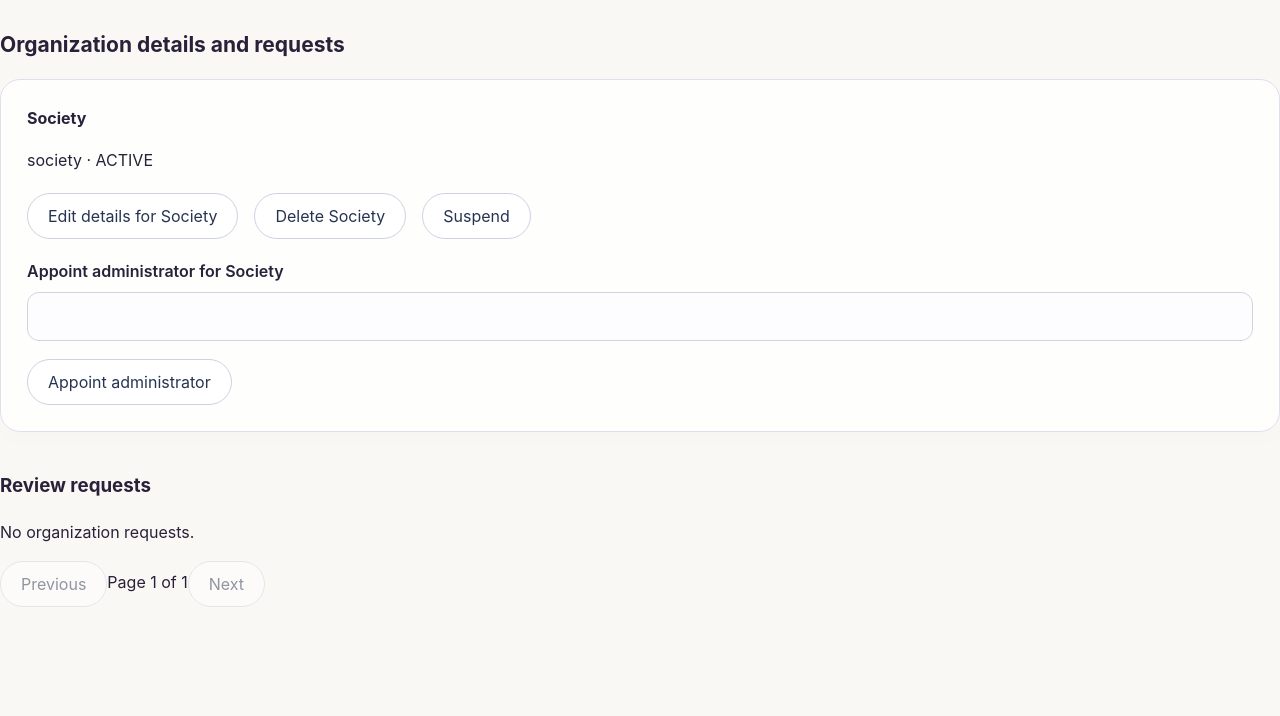
requires a matching name for soft deletion and submits the version
The image size is (1280, 716).
Click the button "Delete Society" at (330, 216), box [254, 193, 406, 239]
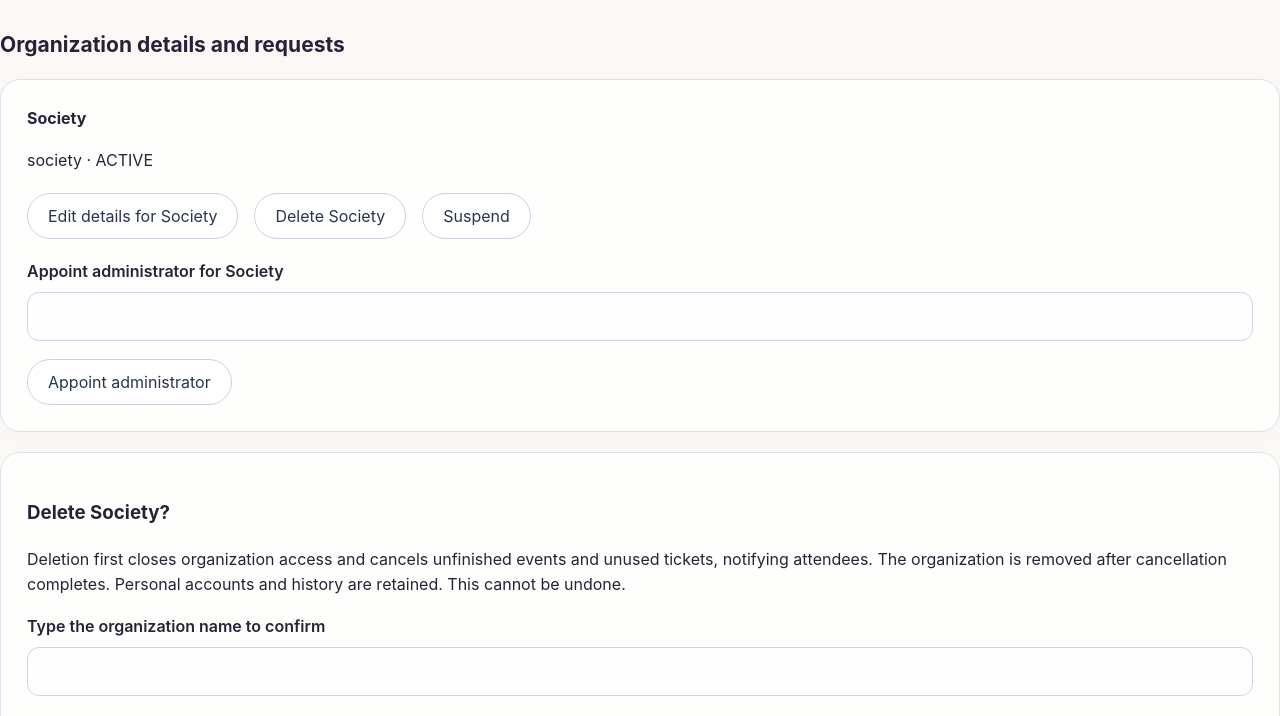
Type "Society" into the field labelled "Type the organization name to confirm" at (640, 671), box [27, 646, 1253, 696]
(page scrolled)
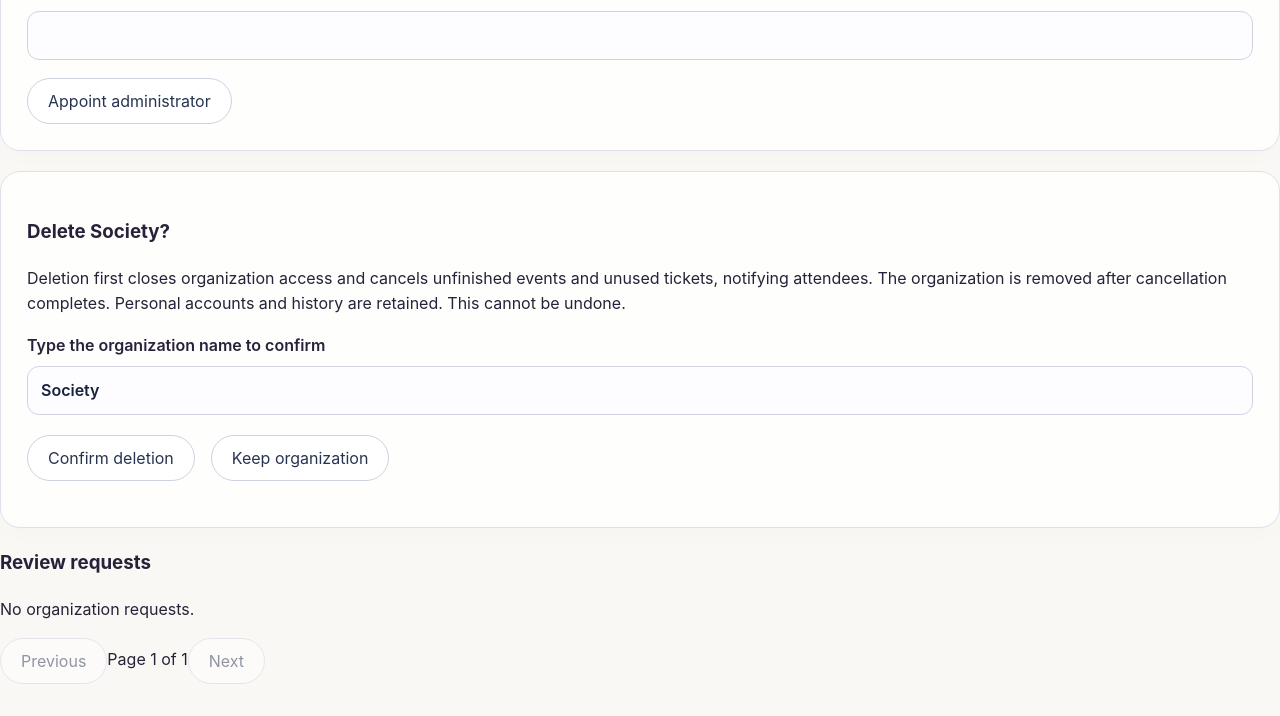
Click the button "Confirm deletion" at (111, 458), box [27, 435, 195, 481]
(page scrolled)
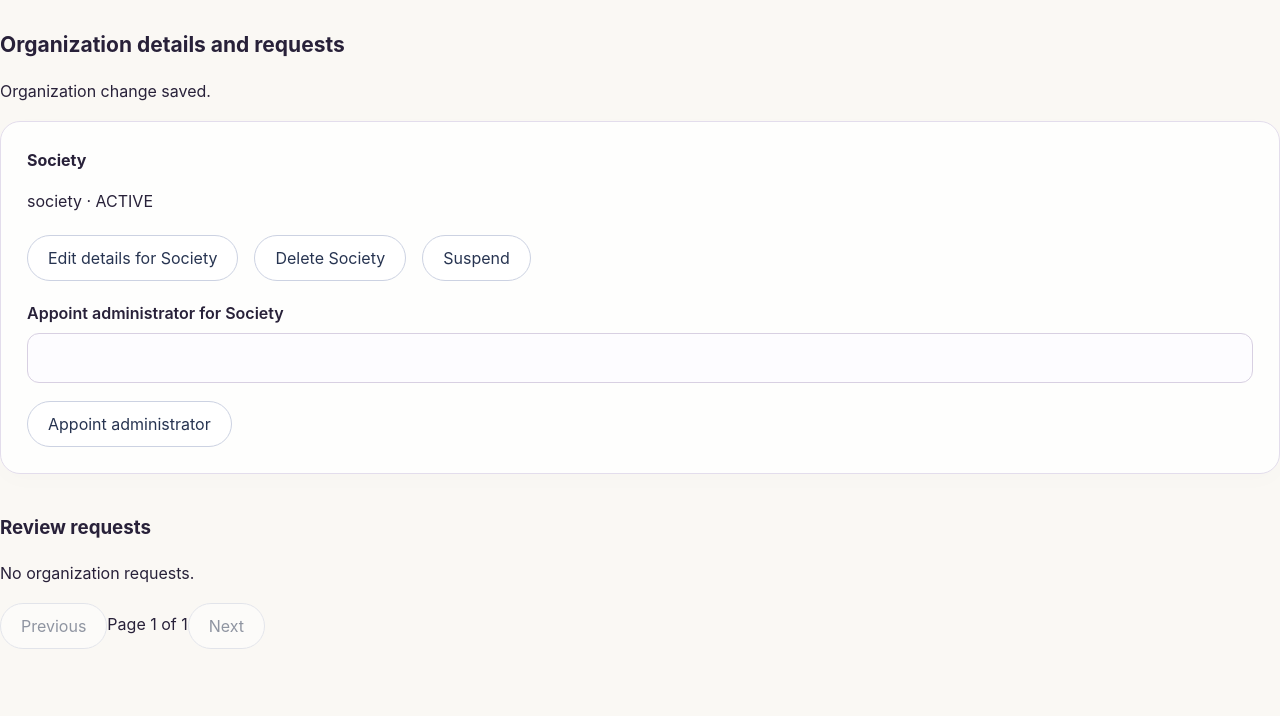
expect the text "Organization change saved." is shown: met, box [0, 81, 211, 101]
